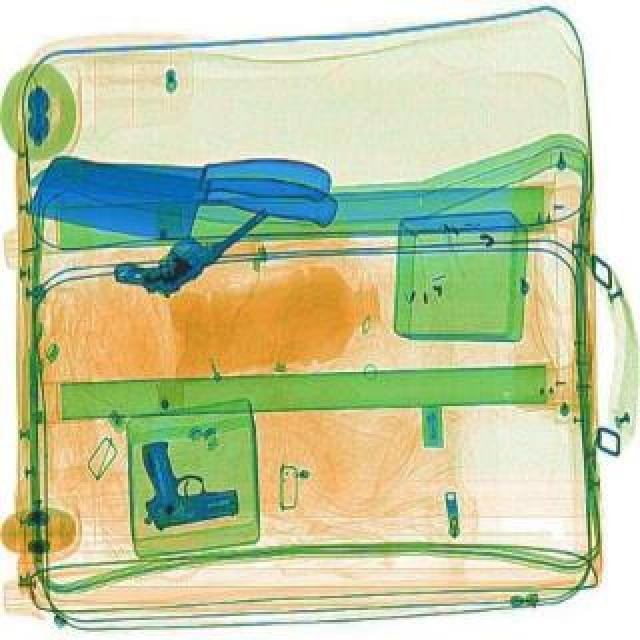gun: (104, 186, 280, 312), (128, 424, 244, 534)
knife: (24, 140, 346, 268), (32, 150, 336, 208)
